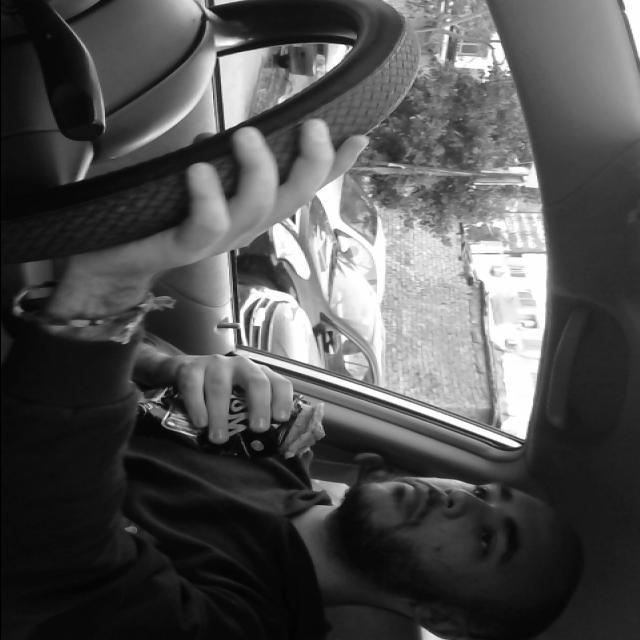eating: (132, 361, 340, 472)
